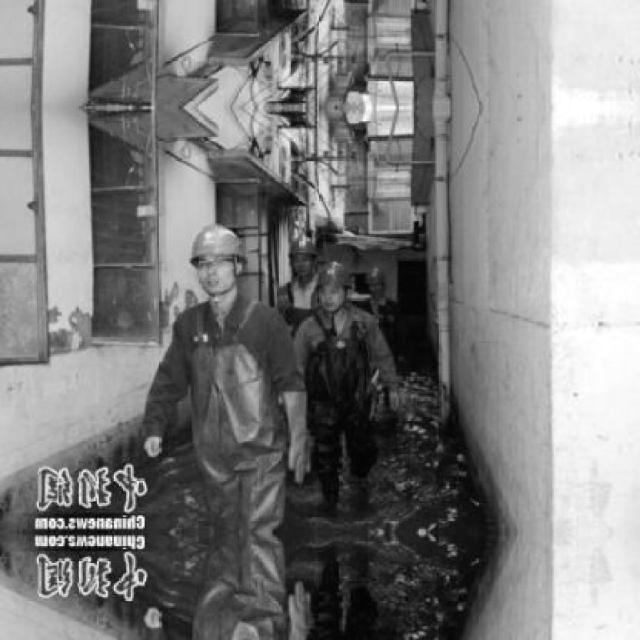face_nomask: (197, 259, 236, 291), (316, 284, 342, 309), (290, 256, 311, 278)
glasses: (192, 254, 235, 274)
hand_glove: (281, 436, 317, 484)
hand_noglove: (140, 436, 165, 458), (386, 390, 404, 410)
head_helmet: (186, 222, 252, 268), (314, 260, 354, 291), (286, 232, 321, 257), (366, 266, 386, 286)
person: (174, 224, 286, 542), (296, 266, 378, 512)
